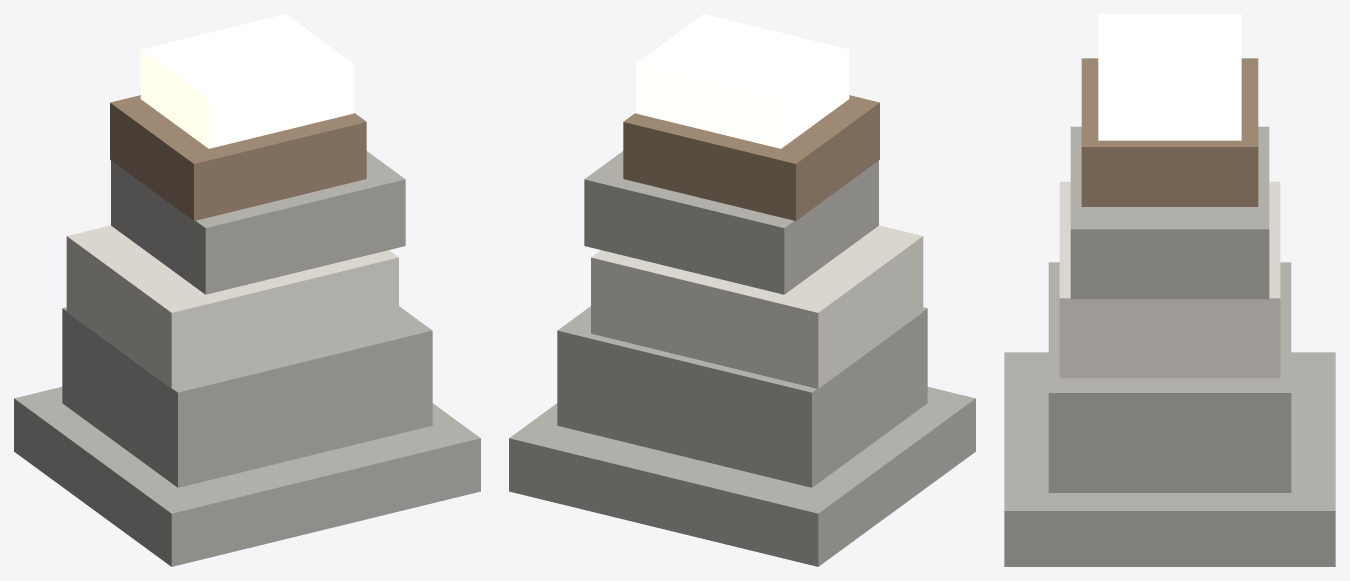
The model's file is LM19_FiveLayers.glb.
3 views of the same model, side by side, from view 1: azimuth 30°, elevation 25°; view 2: azimuth 150°, elevation 25°; view 3: azimuth 270°, elevation 25° (orthographic). The views are drawn at different scales.
Parts seen in each view (by area): view 1: Base.005, L1, L2, L3, L5, L4; view 2: Base.005, L1, L2, L3, L5, L4; view 3: Base.005, L1, L2, L3, L5, L4.
Boxes of the visible parts, <box> form: Base.005: <box>14,387,480,566</box>; L1: <box>62,306,432,487</box>; L2: <box>66,225,398,388</box>; L3: <box>111,151,405,294</box>; L5: <box>140,14,354,148</box>; L4: <box>110,95,366,220</box>; Base.005: <box>509,387,975,566</box>; L1: <box>557,306,927,487</box>; L2: <box>591,225,923,388</box>; L3: <box>584,151,878,294</box>; L5: <box>635,14,849,148</box>; L4: <box>623,95,879,220</box>; Base.005: <box>1004,352,1335,566</box>; L1: <box>1048,262,1291,492</box>; L2: <box>1059,181,1280,378</box>; L3: <box>1070,126,1269,299</box>; L5: <box>1098,14,1241,140</box>; L4: <box>1081,58,1258,206</box>.
Bounding box in the file's own units: 1.7 × 2.18 × 1.5.
